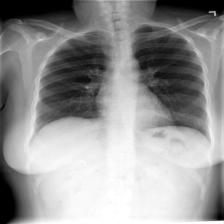normal: (23, 16, 216, 148)
